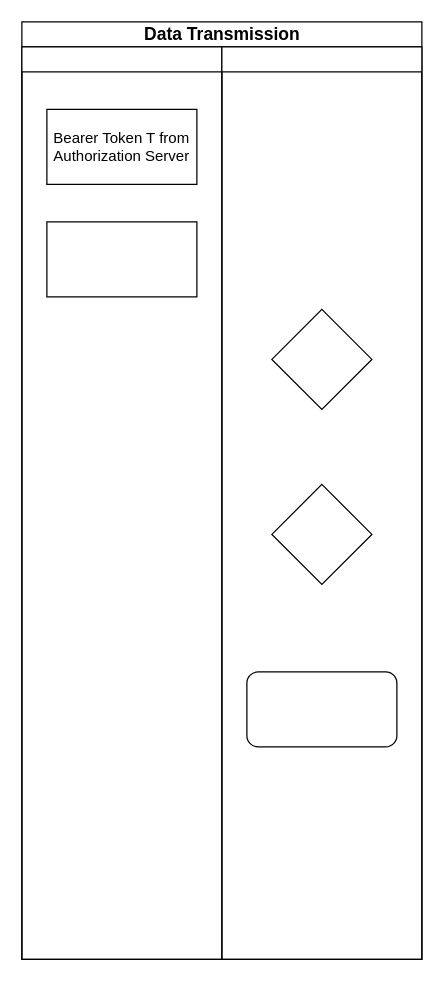
Some shapes in this 444 by 981 pixel diagram are drawn without their labels. The shapes that lost their labels are listed below. From the top down, each one's box as (x1, y1, x2, y2) in pixels, then its label:
(21, 46, 222, 959): Device
(221, 46, 422, 959): Server
